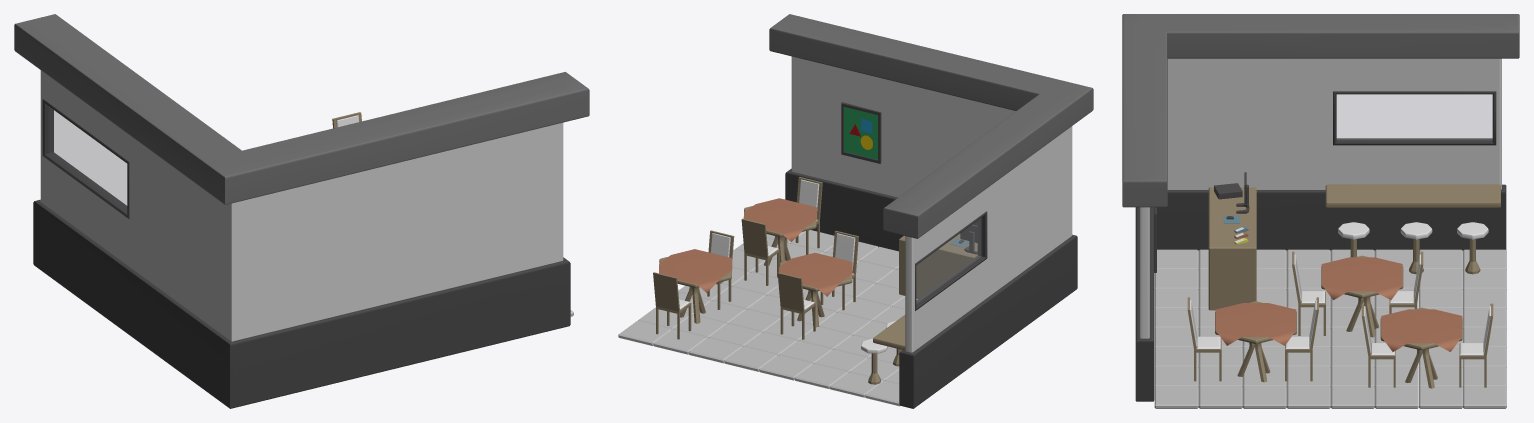
Rendered from Restaurante LowPoly.fbx.
3 renders of one model, left to right at view 1: azimuth 30°, elevation 25°; view 2: azimuth 150°, elevation 25°; view 3: azimuth 270°, elevation 25°, orthographic. The views are drawn at different scales.
Visible parts, largest first — view 1: Parede, Vidro; view 2: Parede, Vidro, Balcao, Quadro1, Toalha_de_Mesa3, Toalha_de_Mesa2, Toalha_de_Mesa, Cadeira5, Cadeira4, Cadeira, Cadeira6, Cadeira2 (+34 smaller); view 3: Parede, Vidro, Balcao, Bancada, Toalha_de_Mesa, Toalha_de_Mesa3, Toalha_de_Mesa2, Piso56, Piso60, Piso61, Piso62, Piso63 (+58 smaller).
Part boxes in pixels (x1,y1,x2,y2): Parede: (14, 14, 589, 408); Vidro: (49, 107, 126, 209); Parede: (769, 14, 1093, 408); Vidro: (916, 218, 981, 303); Balcao: (899, 233, 977, 298); Quadro1: (841, 102, 881, 163); Toalha_de_Mesa3: (659, 249, 732, 292); Toalha_de_Mesa2: (743, 198, 816, 241); Toalha_de_Mesa: (779, 253, 852, 296); Cadeira5: (777, 272, 815, 339); Cadeira4: (653, 272, 691, 339); Cadeira: (741, 218, 779, 285); Cadeira6: (820, 231, 858, 310); Cadeira2: (785, 177, 822, 254); Parede: (1122, 14, 1519, 401); Vidro: (1337, 94, 1492, 139); Balcao: (1208, 187, 1256, 310); Bancada: (1325, 184, 1500, 207); Toalha_de_Mesa: (1321, 257, 1402, 299); Toalha_de_Mesa3: (1381, 309, 1462, 351); Toalha_de_Mesa2: (1215, 303, 1296, 345); Piso56: (1154, 386, 1198, 408); Piso60: (1242, 386, 1286, 408); Piso61: (1374, 386, 1418, 408); Piso62: (1198, 386, 1242, 408); Piso63: (1286, 386, 1330, 408).
Size of the model in its own units: 27.23 by 17.11 by 27.08.
